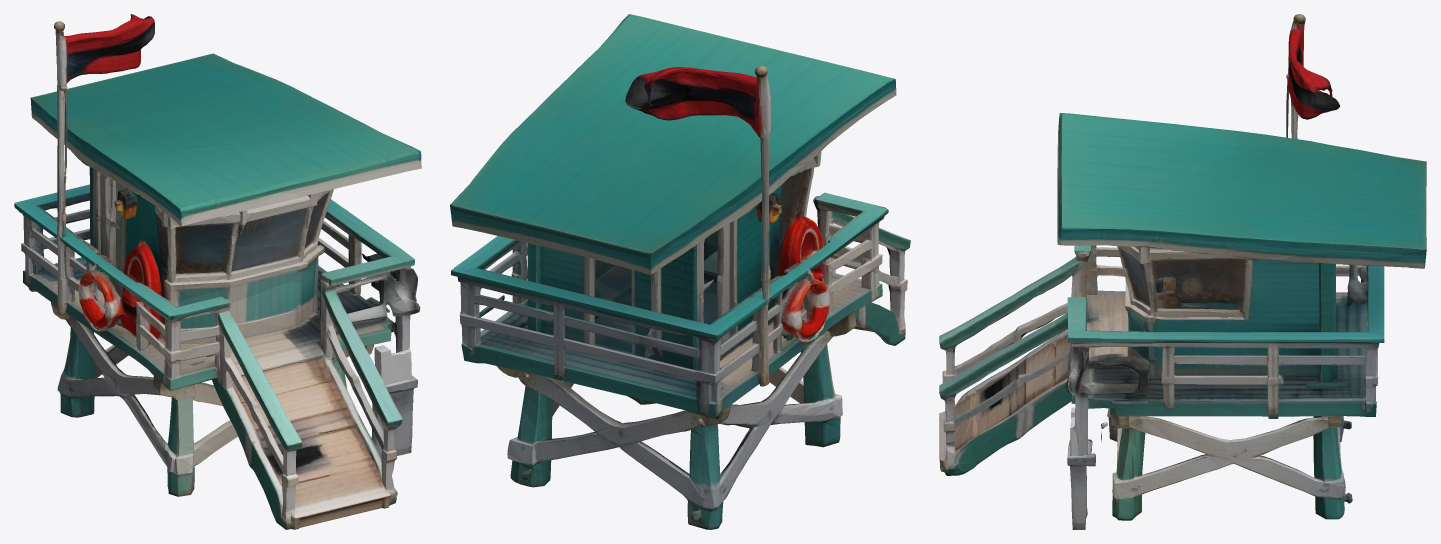
The model's file is prop_lifeguard.glb.
The picture shows the model from 3 angles, left to right: view 1: azimuth 30°, elevation 25°; view 2: azimuth 150°, elevation 25°; view 3: azimuth 270°, elevation 25°; orthographic projection. The views are drawn at different scales.
Parts seen in each view (by area): view 1: world; view 2: world; view 3: world.
Boxes of the visible parts, x1,y1,x2,y2 form: world: (14, 14, 421, 529); world: (450, 14, 910, 529); world: (939, 14, 1426, 529).
Bounding box in the file's own units: 0.6047 × 0.9229 × 1.
1 material, 1 textured.
